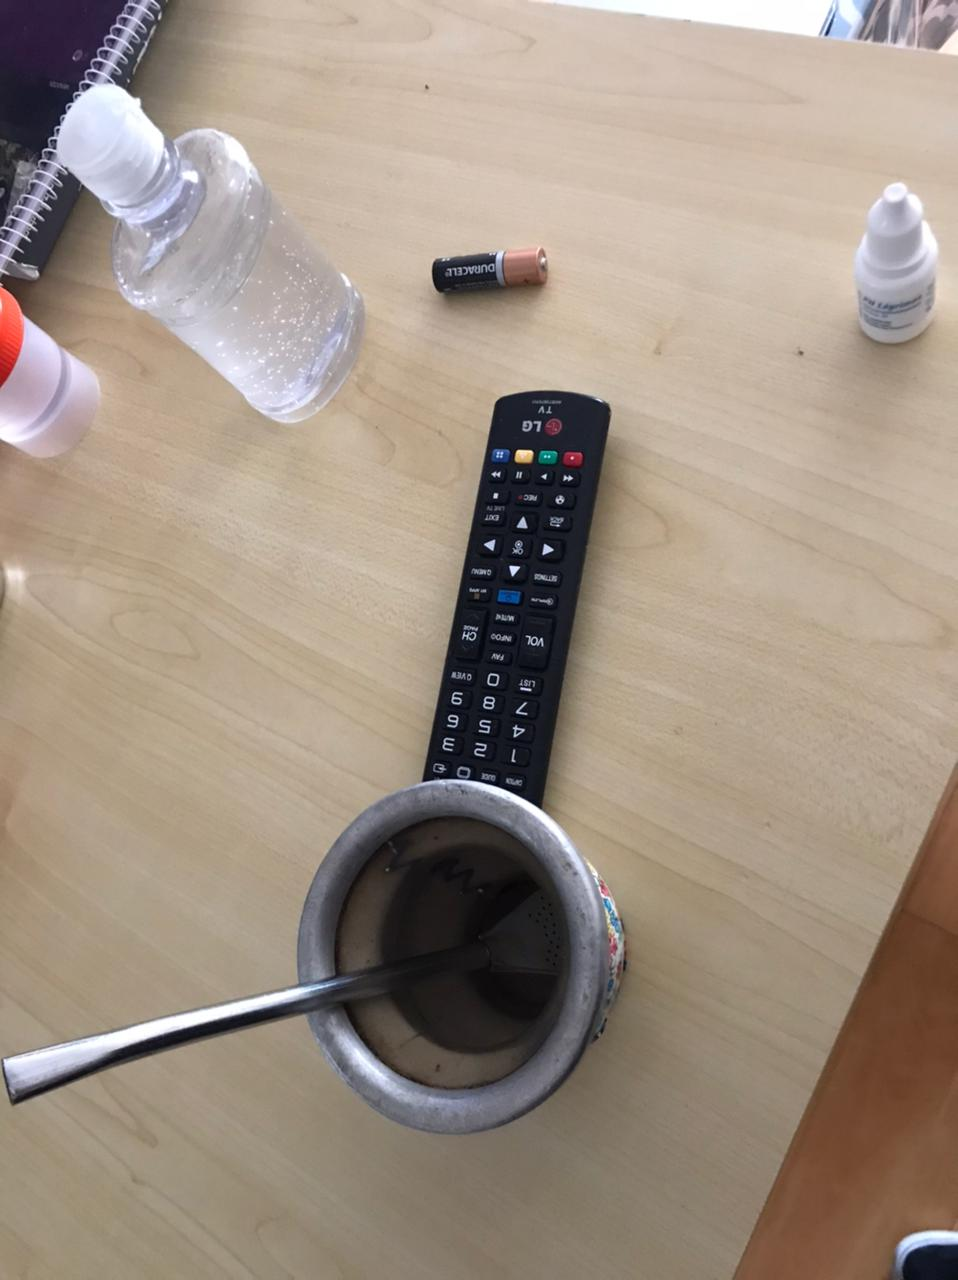mate: (1, 776, 627, 1132)
